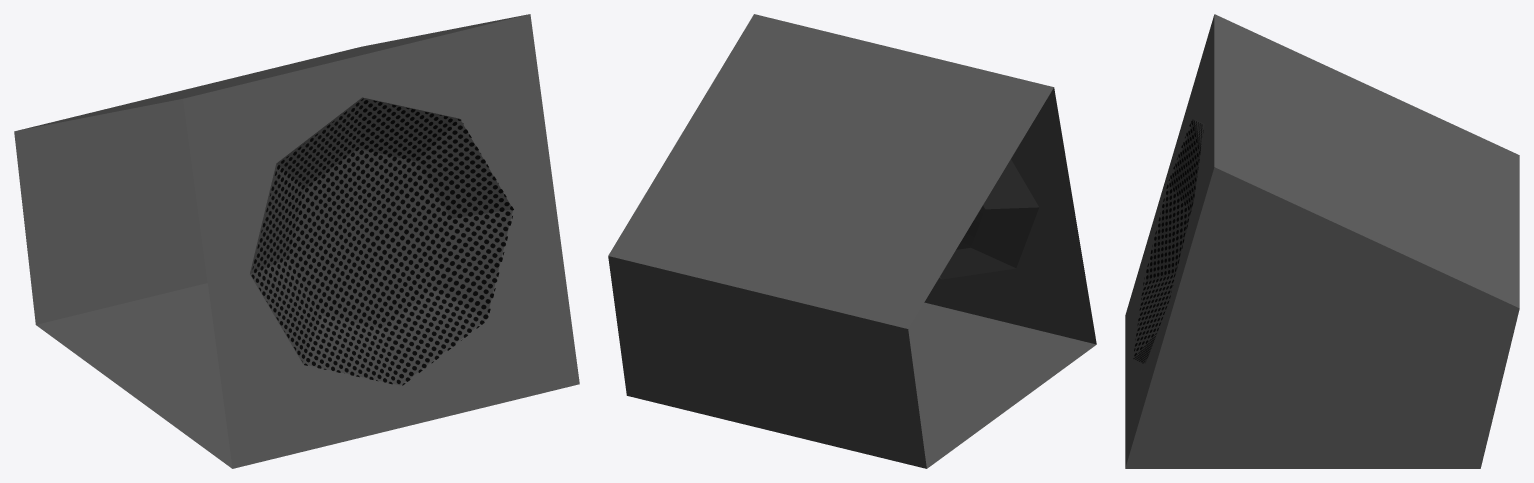
Rendered from Itr_Obj_Speaker2_Right_03.FBX.
3 renders of one model, left to right at view 1: azimuth 30°, elevation 25°; view 2: azimuth 150°, elevation 25°; view 3: azimuth 270°, elevation 25°, orthographic. The views are drawn at different scales.
Visible parts, largest first — view 1: Itr_Obj_Speaker2_Right_03; view 2: Itr_Obj_Speaker2_Right_03; view 3: Itr_Obj_Speaker2_Right_03.
Boxes of the visible parts, <box> form: Itr_Obj_Speaker2_Right_03: <box>14,14,579,468</box>; Itr_Obj_Speaker2_Right_03: <box>608,14,1096,468</box>; Itr_Obj_Speaker2_Right_03: <box>1125,14,1519,468</box>.
Bounding box in the file's own units: 10.38 × 9.54 × 11.31.
